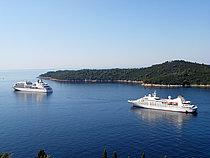Ship: (128, 91, 201, 117), (9, 75, 58, 96)
